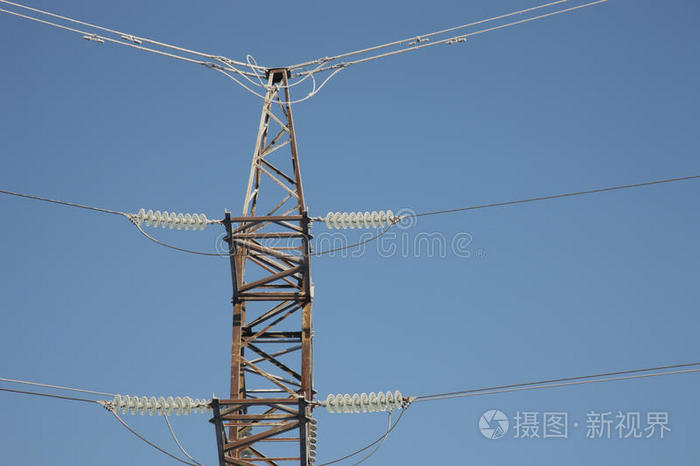insulator: (110, 393, 193, 416), (135, 208, 207, 233), (324, 391, 402, 414), (325, 210, 395, 228)
